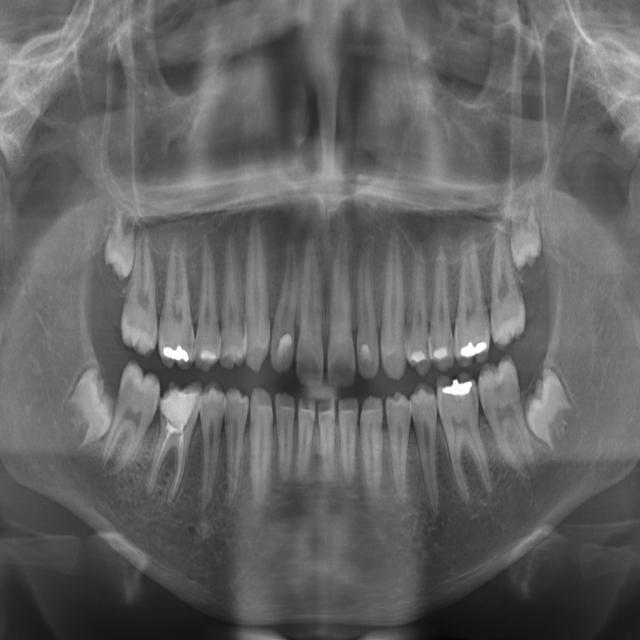AmalgamRestoration: (440, 378, 476, 400), (460, 336, 490, 362), (161, 341, 192, 366)
CompositeResinRestoration: (166, 392, 193, 426), (410, 343, 432, 368), (199, 344, 218, 372), (279, 331, 293, 369), (359, 341, 372, 372)
Crown: (160, 398, 173, 428)
DentalCaries: (492, 376, 509, 399), (219, 330, 230, 360), (185, 329, 198, 354), (466, 384, 477, 412), (445, 327, 457, 352), (423, 328, 434, 355)
RootCanalTreatment: (148, 425, 190, 484)
periapicalLesion: (137, 473, 160, 518), (162, 480, 180, 514)
